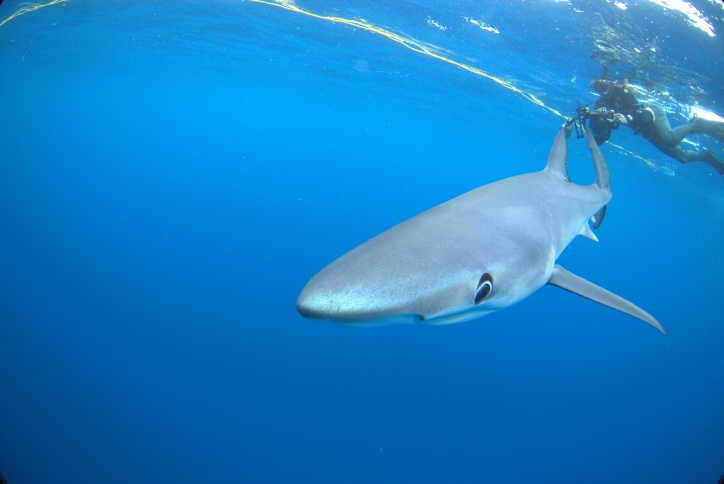Azul: (243, 104, 679, 348)
